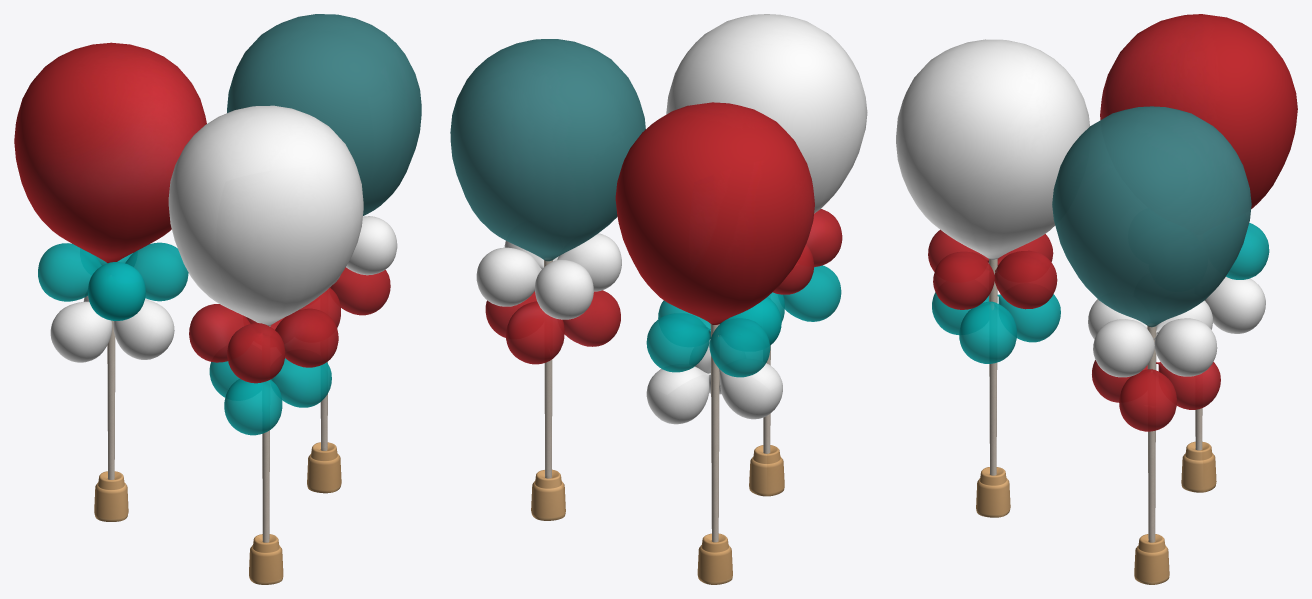
Rendered from Robbers_T3ANI210_Balloons_Abdilla.fbx.
3 renders of one model, left to right at view 1: azimuth 30°, elevation 25°; view 2: azimuth 150°, elevation 25°; view 3: azimuth 270°, elevation 25°, orthographic.
Visible parts, largest first — view 1: MainBalloon_2 (×2), MainBalloon_3, MiniBalloon_2 (×2), MiniBalloon_5 (×2), MiniBalloon_4 (×2), MiniBalloon_3, MiniBalloon_1, MiniBalloon_10, MiniBalloon_6, MiniBalloon_11, MiniBalloon_7, MiniBalloon_13 (+2 smaller); view 2: MainBalloon_2 (×2), MainBalloon_3, MiniBalloon_9 (×2), MiniBalloon_3 (×2), MiniBalloon_10 (×2), MiniBalloon_7 (×2), MiniBalloon_2, MiniBalloon_4, MiniBalloon_5, MiniBalloon_6, MiniBalloon_12, MiniBalloon_1 (+1 smaller); view 3: MainBalloon_2 (×2), MainBalloon_3, MiniBalloon_9 (×2), MiniBalloon_4 (×2), MiniBalloon_10, MiniBalloon_1, MiniBalloon_2, MiniBalloon_13, MiniBalloon_5, MiniBalloon_8, MiniBalloon_3 (×2), MiniBalloon_7 (×2) (+2 smaller).
Part boxes in pixels (<box>): MainBalloon_2 (×2): <box>14,14,421,521</box>; MainBalloon_3: <box>168,105,363,584</box>; MiniBalloon_2 (×2): <box>38,243,338,367</box>; MiniBalloon_5 (×2): <box>50,301,331,407</box>; MiniBalloon_4 (×2): <box>113,299,239,397</box>; MiniBalloon_3: <box>227,323,285,383</box>; MiniBalloon_1: <box>88,262,145,320</box>; MiniBalloon_10: <box>88,262,145,320</box>; MiniBalloon_6: <box>224,379,282,435</box>; MiniBalloon_11: <box>125,242,188,301</box>; MiniBalloon_7: <box>189,304,250,362</box>; MiniBalloon_13: <box>346,216,397,275</box>; MainBalloon_2 (×2): <box>450,39,814,584</box>; MainBalloon_3: <box>666,14,867,496</box>; MiniBalloon_9 (×2): <box>563,290,710,424</box>; MiniBalloon_3 (×2): <box>646,209,842,372</box>; MiniBalloon_10 (×2): <box>476,247,780,344</box>; MiniBalloon_7 (×2): <box>535,245,814,319</box>; MiniBalloon_2: <box>709,318,770,377</box>; MiniBalloon_4: <box>506,301,564,364</box>; MiniBalloon_5: <box>719,363,782,419</box>; MiniBalloon_6: <box>783,265,841,321</box>; MiniBalloon_12: <box>557,233,621,291</box>; MiniBalloon_1: <box>719,297,781,345</box>; MainBalloon_2 (×2): <box>1052,14,1297,584</box>; MainBalloon_3: <box>896,39,1089,517</box>; MiniBalloon_9 (×2): <box>1092,276,1265,402</box>; MiniBalloon_4 (×2): <box>997,294,1220,409</box>; MiniBalloon_10: <box>1153,318,1217,376</box>; MiniBalloon_1: <box>994,250,1057,309</box>; MiniBalloon_2: <box>933,251,994,309</box>; MiniBalloon_13: <box>1093,319,1154,377</box>; MiniBalloon_5: <box>959,301,1016,363</box>; MiniBalloon_8: <box>1119,369,1176,431</box>; MiniBalloon_3 (×2): <box>928,223,1269,279</box>; MiniBalloon_7 (×2): <box>997,234,1212,335</box>.
Size of the model in its own units: 13.5 by 16.5 by 13.01.
Materials: 8 (8 with a texture image).
